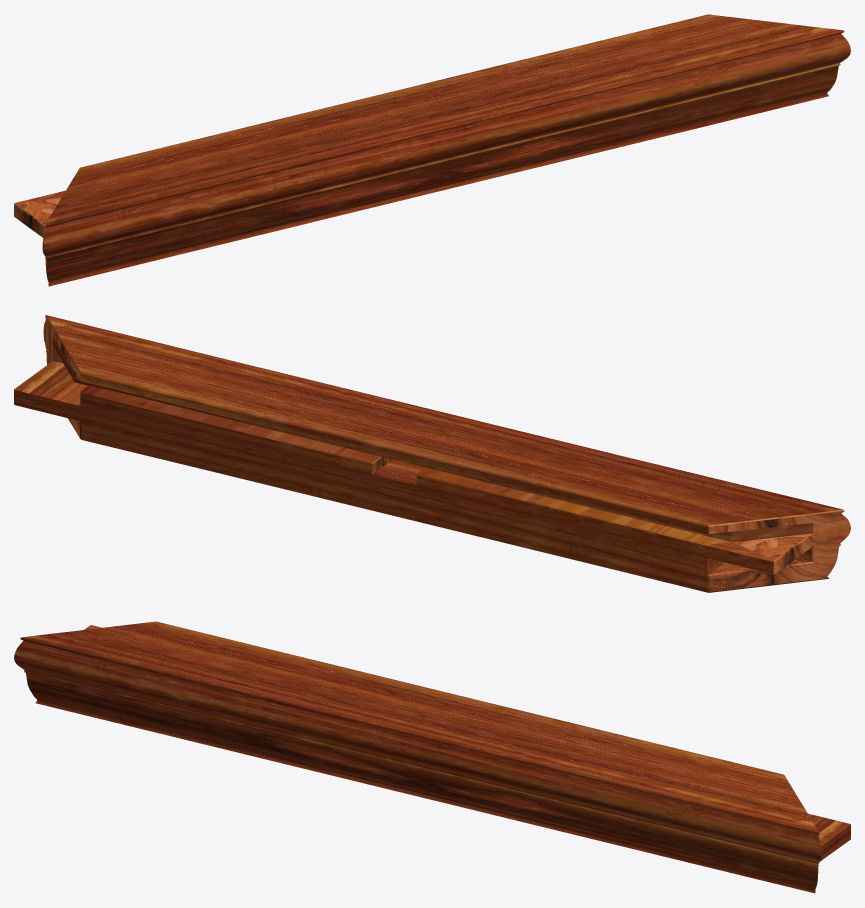
Rendered from changfangwu_J_D_dengmian_03.FBX.
The picture shows the model from 3 angles, top to bottom: view 1: azimuth 30°, elevation 25°; view 2: azimuth 150°, elevation 25°; view 3: azimuth 330°, elevation 25°; orthographic projection.
Parts seen in each view (by area): view 1: changfangwu_J_D_dengmian_03; view 2: changfangwu_J_D_dengmian_03; view 3: changfangwu_J_D_dengmian_03.
Boxes of the visible parts, x1=… form: changfangwu_J_D_dengmian_03: x1=14, y1=14, x2=850, y2=286; changfangwu_J_D_dengmian_03: x1=14, y1=315, x2=850, y2=592; changfangwu_J_D_dengmian_03: x1=14, y1=621, x2=850, y2=893.
Bounding box in the file's own units: 52.69 × 4.21 × 6.01.
2 materials, 2 textured.
